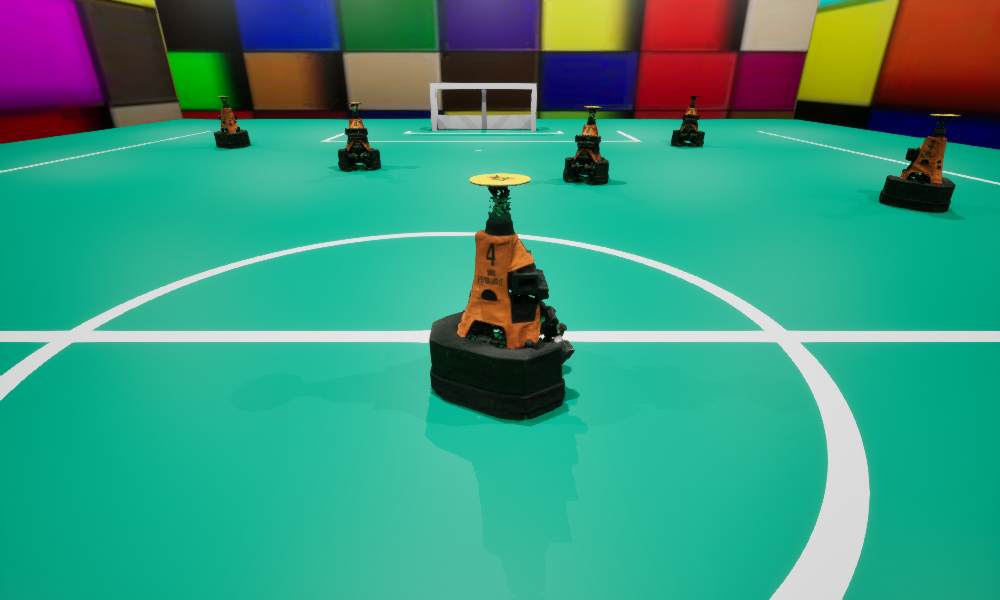0 orange robot TechUnited: (429, 173, 574, 420), (879, 114, 960, 212), (563, 106, 608, 183), (338, 102, 380, 171), (214, 96, 250, 148), (671, 95, 704, 146)
